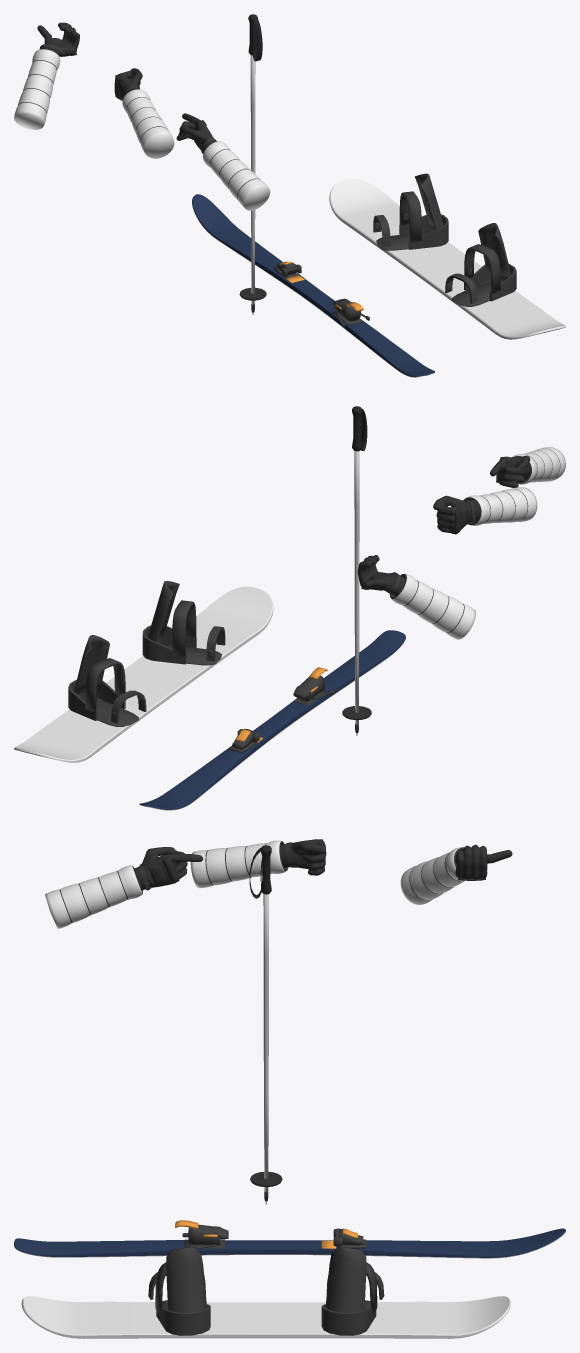
The picture shows the model from 3 angles, top to bottom: view 1: azimuth 30°, elevation 25°; view 2: azimuth 150°, elevation 25°; view 3: azimuth 270°, elevation 25°; orthographic projection. The views are drawn at different scales.
Parts seen in each view (by area): view 1: Snowboard, Ski, FP_ArmL_Support, FP_ArmR, FP_ArmL, Pole; view 2: Snowboard, Ski, FP_ArmL_Support, FP_ArmL, Pole, FP_ArmR; view 3: Snowboard, Ski, FP_ArmR, FP_ArmL, FP_ArmL_Support, Pole.
Boxes of the visible parts, x1,y1,x2,y2 form: Snowboard: (329, 173, 565, 339); Ski: (192, 194, 434, 377); FP_ArmL_Support: (14, 22, 79, 129); FP_ArmR: (176, 113, 270, 210); FP_ArmL: (114, 68, 174, 158); Pole: (239, 14, 266, 314); Snowboard: (14, 581, 273, 762); Ski: (139, 630, 405, 810); FP_ArmL_Support: (357, 555, 475, 639); FP_ArmL: (433, 487, 537, 534); Pole: (342, 406, 371, 735); FP_ArmR: (490, 447, 565, 487); Snowboard: (21, 1247, 510, 1338); Ski: (14, 1220, 565, 1258); FP_ArmR: (45, 847, 202, 928); FP_ArmL: (190, 839, 326, 888); FP_ArmL_Support: (400, 844, 512, 905); Pole: (249, 845, 282, 1204).
Size of the model in its own units: 1.74 by 1.27 by 1.75.
